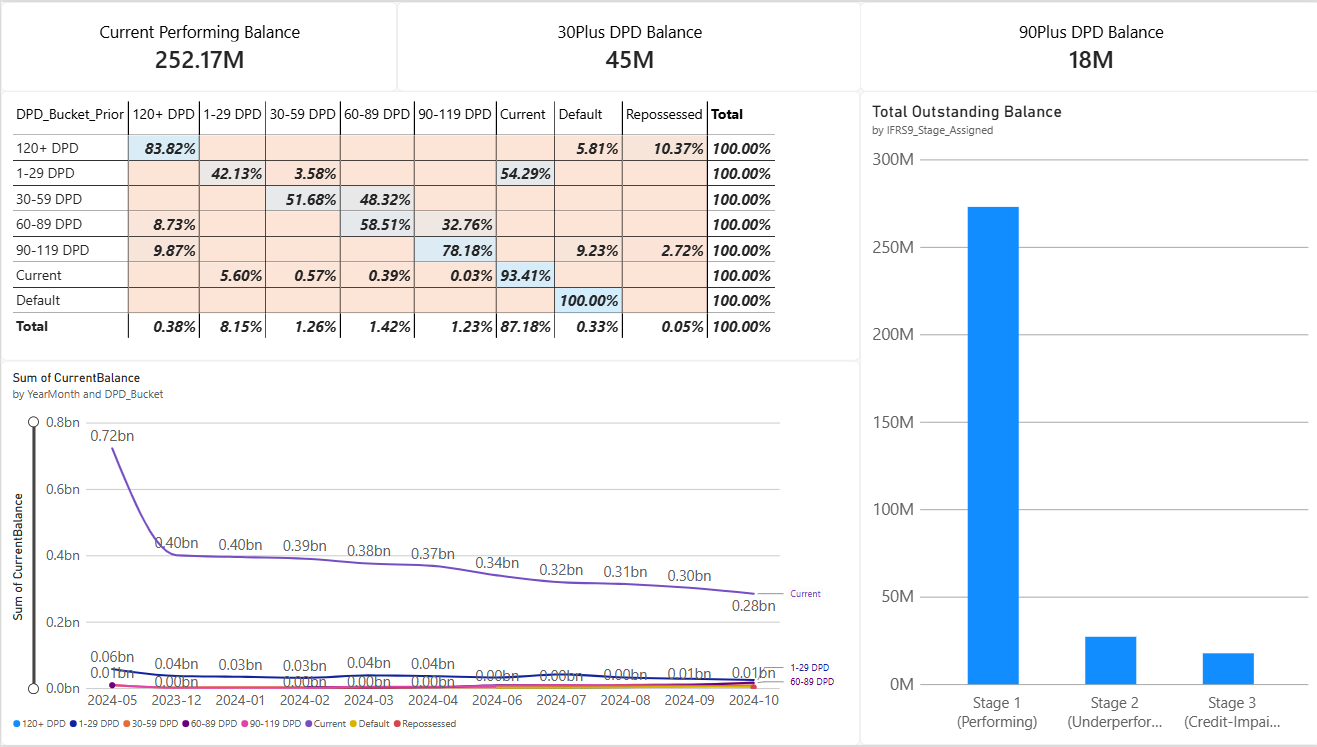

What the dashboard file says about the page in this screenshot:
{"tool":"powerbi","page":{"name":"Delinquency & Roll Rates","canvas":[1920,1080],"ordinal":1},"visuals":[{"type":"cardVisual","fields":{"Data":["_AllMeasures.Current Performing Balance"]},"box":[0,0,576.6,130.4],"z":0},{"type":"cardVisual","fields":{"Data":["_AllMeasures.30Plus DPD Balance"]},"box":[575,0,675,130],"z":1000},{"type":"cardVisual","fields":{"Data":["_AllMeasures.90Plus DPD Balance"]},"box":[1250,0,670,130],"z":2000},{"type":"clusteredColumnChart","fields":{"Category":["Fact_Auto_Loans.IFRS9_Stage_Assigned"],"Y":["_AllMeasures.Total Outstanding Balance"]},"box":[1249.2,130.4,669.2,950.6],"z":3000},{"type":"lineChart","fields":{"Category":["Dim_Date.YearMonth"],"Y":["Sum(dpd_snapshot_history.CurrentBalance)"],"Series":["dpd_snapshot_history.DPD_Bucket"]},"box":[0,521.7,1249.2,559.4],"z":4000},{"type":"pivotTable","fields":{"Rows":["dpd_snapshot_history.DPD_Bucket_Prior"],"Columns":["dpd_snapshot_history.DPD_Bucket"],"Values":["Sum(dpd_snapshot_history.CurrentBalance)"]},"box":[0,130.4,1249.2,391.2],"z":5000}]}

Visuals, with their boxes in screenshot pixels (x1, y1, x2, y2), scaled from the page's 1920x1080 canvas onto the 1317x747 screenshot:
cardVisual - _AllMeasures.Current Performing Balance: <region>0, 0, 396, 90</region>
cardVisual - _AllMeasures.30Plus DPD Balance: <region>394, 0, 857, 90</region>
cardVisual - _AllMeasures.90Plus DPD Balance: <region>857, 0, 1316, 90</region>
clusteredColumnChart - Fact_Auto_Loans.IFRS9_Stage_Assigned x _AllMeasures.Total Outstanding Balance: <region>857, 90, 1316, 746</region>
lineChart - Dim_Date.YearMonth x Sum(dpd_snapshot_history.CurrentBalance): <region>0, 361, 857, 746</region>
pivotTable - dpd_snapshot_history.DPD_Bucket_Prior x dpd_snapshot_history.DPD_Bucket: <region>0, 90, 857, 361</region>
